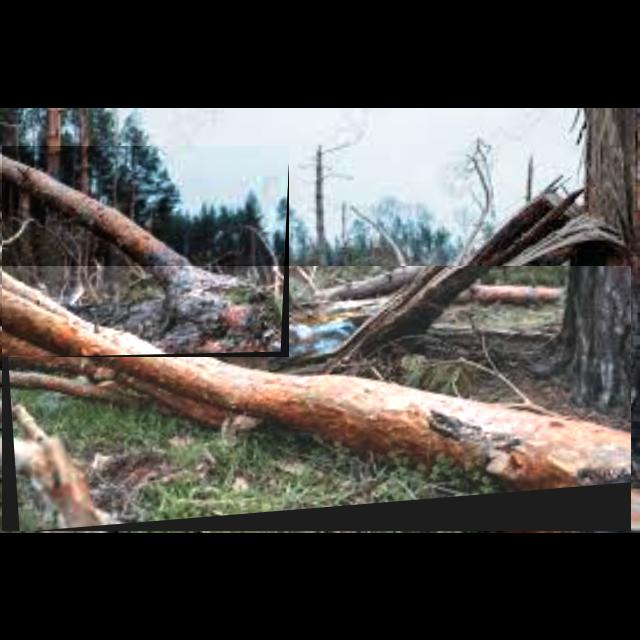Fallen Tree: (2, 266, 632, 532), (2, 146, 290, 358)
